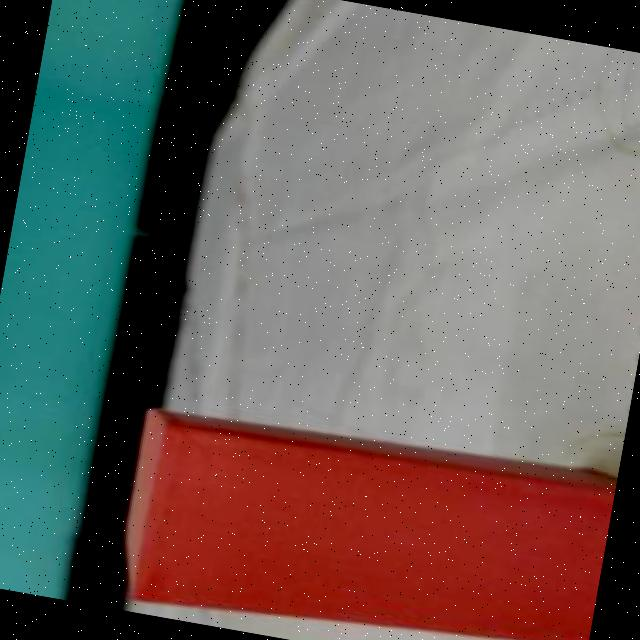redbox: (113, 390, 618, 640)
